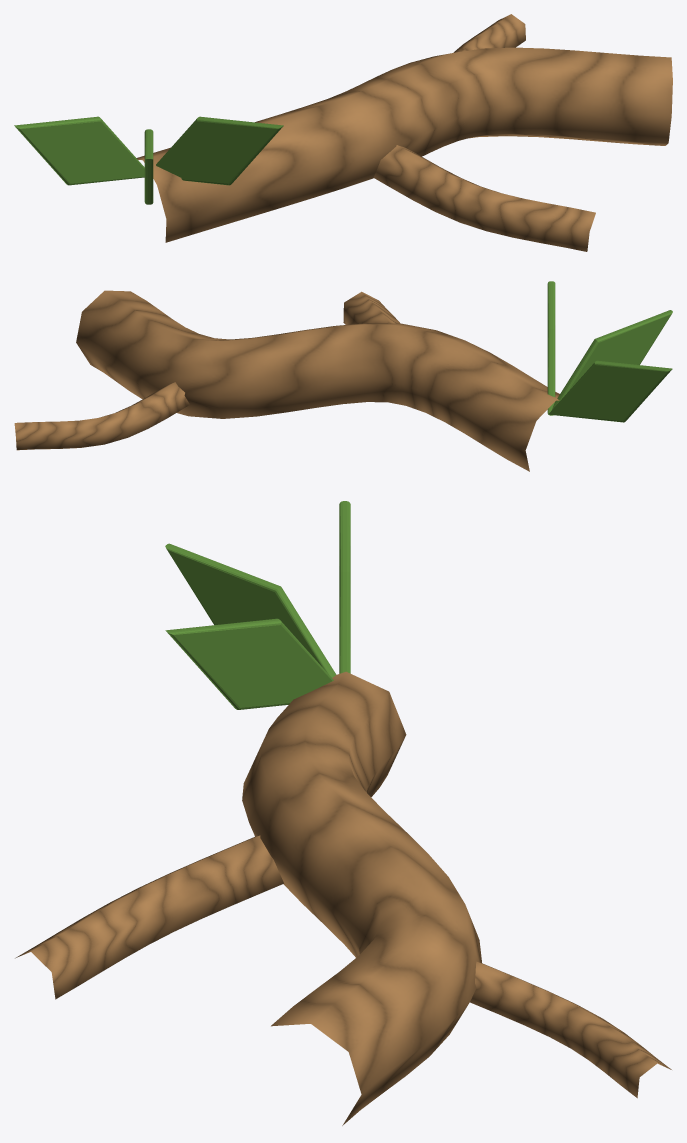
File: wild_root.glb
3 renders of one model, top to bottom at view 1: azimuth 30°, elevation 25°; view 2: azimuth 150°, elevation 25°; view 3: azimuth 270°, elevation 25°, orthographic. The views are drawn at different scales.
Size of the model in its own units: 0.26 by 0.0615 by 0.1699.
Materials: 2 (1 with a texture image).
